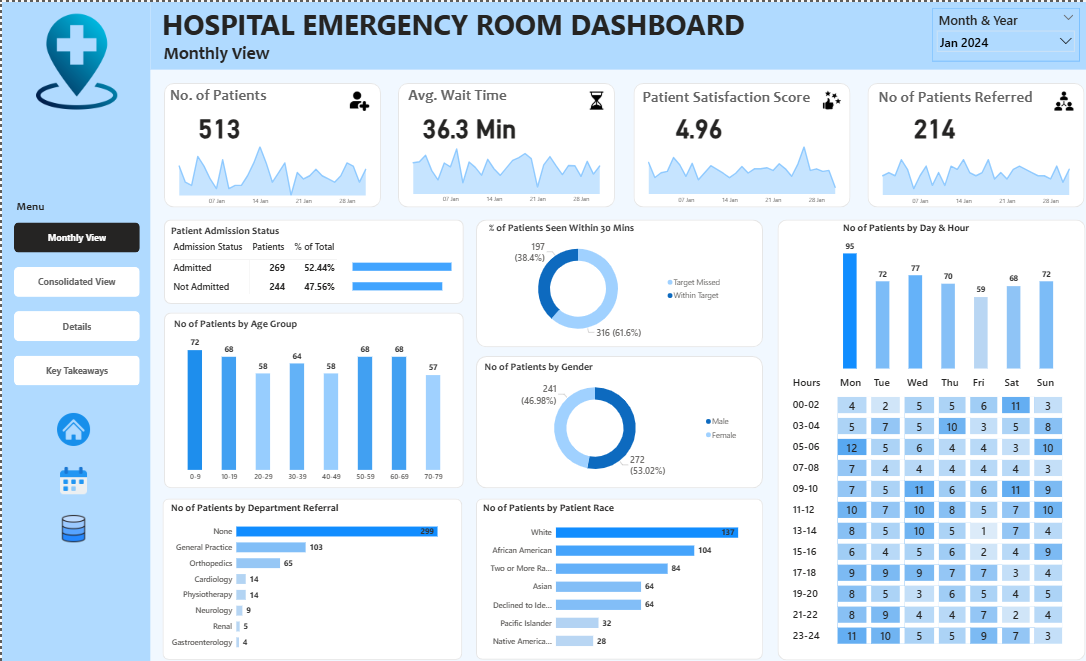

The dashboard page shown, as its layout file describes it:
{"tool":"powerbi","page":{"name":"Monthly View","canvas":[2300,1400],"ordinal":0},"visuals":[{"type":"shape","box":[338.5,171.3,455.5,261.2],"z":0},{"type":"shape","box":[1324.7,171.3,455.5,261.2],"z":1000},{"type":"shape","box":[0,0,311.3,1399.9],"z":2000},{"type":"shape","box":[831.6,171.3,455.5,261.2],"z":3000},{"type":"card","fields":{"Values":["Hospital ER_Hospital ER.No of Patients"]},"box":[374,225.7,160.9,66.9],"z":4000},{"type":"card","fields":{"Values":["Hospital ER_Hospital ER.Avg Wait Time"]},"box":[869.2,225.7,223.6,66.9],"z":5000},{"type":"card","fields":{"Values":["Avg(Hospital ER_Hospital ER.Patient Satisfaction Score)"]},"box":[1381.4,225.6,160.9,66.9],"z":6000},{"type":"shape","box":[1817.8,171.3,455.5,261.2],"z":7000},{"type":"card","fields":{"Values":["Hospital ER_Hospital ER.Measure"]},"box":[1876.7,227.6,160.9,66.9],"z":8000},{"type":"shape","box":[311.3,0,1989.1,142.1],"z":9000},{"type":"slicer","fields":{"Values":["Calendar Table.Month & Year"]},"box":[1950.8,12.2,309.8,112.1],"z":10000},{"type":"textbox","box":[339.2,171.3,227.8,56.5],"z":11000},{"type":"textbox","box":[841.3,171.3,231.1,56.5],"z":12000},{"type":"textbox","box":[1331.2,172,377.5,55.8],"z":13000},{"type":"textbox","box":[1828.2,173.4,344.8,56.4],"z":14000},{"type":"areaChart","fields":{"Category":["Calendar Table.Date.Variation.Date Hierarchy.Year","Calendar Table.Date.Variation.Date Hierarchy.Quarter","Calendar Table.Date.Variation.Date Hierarchy.Month","Calendar Table.Date.Variation.Date Hierarchy.Day"],"Y":["Hospital ER_Hospital ER.No of Patients"]},"box":[348.4,288.1,435.5,145.2],"z":15000},{"type":"areaChart","fields":{"Category":["Calendar Table.Date.Variation.Date Hierarchy.Year","Calendar Table.Date.Variation.Date Hierarchy.Quarter","Calendar Table.Date.Variation.Date Hierarchy.Month","Calendar Table.Date.Variation.Date Hierarchy.Day"],"Y":["Avg(Hospital ER_Hospital ER.Patient Waittime)"]},"box":[842.1,285.9,435.5,145.2],"z":16000},{"type":"areaChart","fields":{"Category":["Calendar Table.Date.Variation.Date Hierarchy.Year","Calendar Table.Date.Variation.Date Hierarchy.Quarter","Calendar Table.Date.Variation.Date Hierarchy.Month","Calendar Table.Date.Variation.Date Hierarchy.Day"],"Y":["Avg(Hospital ER_Hospital ER.Patient Satisfaction Score)"]},"box":[1333.4,290.4,435.5,142.9],"z":17000},{"type":"areaChart","fields":{"Category":["Calendar Table.Date.Variation.Date Hierarchy.Year","Calendar Table.Date.Variation.Date Hierarchy.Quarter","Calendar Table.Date.Variation.Date Hierarchy.Month","Calendar Table.Date.Variation.Date Hierarchy.Day"],"Y":["Hospital ER_Hospital ER.Measure"]},"box":[1827.1,288.1,435.5,145.2],"z":18000},{"type":"textbox","box":[331.7,0,1281,88.9],"z":19000},{"type":"image","box":[46.9,17.9,218.9,212.2],"z":20000},{"type":"image","box":[1222.3,183.9,52.2,48.1],"z":21000},{"type":"image","box":[724.8,183.1,52.8,51.2],"z":22000},{"type":"image","box":[2198,181.8,62.7,50],"z":23000},{"type":"image","box":[1713.3,179.7,58.5,52.2],"z":24000},{"type":"shape","box":[338.9,455,629.1,177.3],"z":25000},{"type":"shape","box":[994.7,455,602.5,268.3],"z":26000},{"type":"shape","box":[1626.9,455,646.4,925.6],"z":27000},{"type":"shape","box":[996.2,743.7,602.5,277.7],"z":28000},{"type":"donutChart","title":"% of Patients Seen Within 30 Mins","fields":{"Y":["Hospital ER_Hospital ER.No of Patients"],"Category":["Hospital ER_Hospital ER.Waittime Status"]},"box":[1016.6,461,504.4,257.6],"z":29000},{"type":"donutChart","title":"No of Patients by Gender","fields":{"Y":["Hospital ER_Hospital ER.No of Patients"],"Category":["Hospital ER_Hospital ER.Full Gender"]},"box":[1007.2,753.1,547.5,257.3],"z":30000},{"type":"shape","box":[338.9,652.7,629.1,368.7],"z":31000},{"type":"pivotTable","title":"Patient Admission Status","fields":{"Rows":["Hospital ER_Hospital ER.Admission Status"],"Values":["Hospital ER_Hospital ER.No of Patients1","Hospital ER_Hospital ER.No of Patients"]},"box":[347.9,465.5,610,158.3],"z":32000},{"type":"barChart","fields":{"Category":["Hospital ER_Hospital ER.Admission Status"],"Y":["Hospital ER_Hospital ER.No of Patients"]},"box":[729.5,514.6,241.6,120.8],"z":33000},{"type":"clusteredColumnChart","fields":{"Category":["Hospital ER_Hospital ER.Age Group"],"Y":["Hospital ER_Hospital ER.No of Patients"]},"box":[354.6,662.7,599.3,354.6],"z":34000},{"type":"shape","box":[337.3,1041.7,629.1,338.9],"z":35000},{"type":"clusteredBarChart","fields":{"Category":["Hospital ER_Hospital ER.Department Referral"],"Y":["Hospital ER_Hospital ER.No of Patients"]},"box":[348.3,1049.6,602.5,324.8],"z":36000},{"type":"shape","box":[996.5,1043,602.2,338.4],"z":37000},{"type":"clusteredBarChart","fields":{"Y":["Hospital ER_Hospital ER.No of Patients"],"Category":["Hospital ER_Hospital ER.Patient Race"]},"box":[1005.8,1049.2,578.9,324.4],"z":38000},{"type":"pivotTable","fields":{"Columns":["Calendar Table.Day Name"],"Rows":["Hospital ER_Hospital ER.Waittime Interval"],"Values":["Hospital ER_Hospital ER.No of Patients"]},"box":[1649.4,776.5,606.9,583.6],"z":39000},{"type":"clusteredColumnChart","title":"No of Patients by Day & Hour","fields":{"Category":["Calendar Table.Day Name"],"Y":["Hospital ER_Hospital ER.No of Patients"]},"box":[1758.7,461.3,453.4,315.3],"z":40000},{"type":"textbox","box":[333.7,79.2,411.3,59],"z":41000},{"type":"pageNavigator","box":[24.2,462.3,264.1,343.1],"z":42000},{"type":"textbox","box":[24.2,409.1,99.9,48.3],"z":43000},{"type":"image","box":[110.1,854.1,79.5,87.7],"z":47000},{"type":"image","box":[116.2,966.2,67.3,75.4],"z":48000},{"type":"image","box":[116.2,1068.1,67.3,75.4],"z":49000}]}

Visuals, with their boxes in screenshot pixels (x1, y1, x2, y2), scaled from the page's 2300x1400 canvas onto the 1086x661 screenshot:
shape: bbox=[160, 81, 375, 204]
shape: bbox=[625, 81, 841, 204]
shape: bbox=[0, 0, 147, 660]
shape: bbox=[393, 81, 608, 204]
card - Hospital ER_Hospital ER.No of Patients: bbox=[177, 107, 253, 138]
card - Hospital ER_Hospital ER.Avg Wait Time: bbox=[410, 107, 516, 138]
card - Avg(Hospital ER_Hospital ER.Patient Satisfaction Score): bbox=[652, 107, 728, 138]
shape: bbox=[858, 81, 1073, 204]
card - Hospital ER_Hospital ER.Measure: bbox=[886, 107, 962, 139]
shape: bbox=[147, 0, 1085, 67]
slicer - Calendar Table.Month & Year: bbox=[921, 6, 1067, 59]
textbox: bbox=[160, 81, 268, 108]
textbox: bbox=[397, 81, 506, 108]
textbox: bbox=[629, 81, 807, 108]
textbox: bbox=[863, 82, 1026, 108]
areaChart - Calendar Table.Date.Variation.Date Hierarchy.Year x Calendar Table.Date.Variation.Date Hierarchy.Quarter: bbox=[165, 136, 370, 205]
areaChart - Calendar Table.Date.Variation.Date Hierarchy.Year x Calendar Table.Date.Variation.Date Hierarchy.Quarter: bbox=[398, 135, 603, 204]
areaChart - Calendar Table.Date.Variation.Date Hierarchy.Year x Calendar Table.Date.Variation.Date Hierarchy.Quarter: bbox=[630, 137, 835, 205]
areaChart - Calendar Table.Date.Variation.Date Hierarchy.Year x Calendar Table.Date.Variation.Date Hierarchy.Quarter: bbox=[863, 136, 1068, 205]
textbox: bbox=[157, 0, 761, 42]
image: bbox=[22, 8, 126, 109]
image: bbox=[577, 87, 602, 110]
image: bbox=[342, 86, 367, 111]
image: bbox=[1038, 86, 1067, 109]
image: bbox=[809, 85, 837, 109]
shape: bbox=[160, 215, 457, 299]
shape: bbox=[470, 215, 754, 342]
shape: bbox=[768, 215, 1073, 652]
shape: bbox=[470, 351, 755, 482]
"% of Patients Seen Within 30 Mins" donutChart: bbox=[480, 218, 718, 339]
"No of Patients by Gender" donutChart: bbox=[476, 356, 734, 477]
shape: bbox=[160, 308, 457, 482]
"Patient Admission Status" pivotTable: bbox=[164, 220, 452, 295]
barChart - Hospital ER_Hospital ER.Admission Status x Hospital ER_Hospital ER.No of Patients: bbox=[344, 243, 459, 300]
clusteredColumnChart - Hospital ER_Hospital ER.Age Group x Hospital ER_Hospital ER.No of Patients: bbox=[167, 313, 450, 480]
shape: bbox=[159, 492, 456, 652]
clusteredBarChart - Hospital ER_Hospital ER.Department Referral x Hospital ER_Hospital ER.No of Patients: bbox=[164, 496, 449, 649]
shape: bbox=[471, 492, 755, 652]
clusteredBarChart - Hospital ER_Hospital ER.No of Patients x Hospital ER_Hospital ER.Patient Race: bbox=[475, 495, 748, 649]
pivotTable - Calendar Table.Day Name x Hospital ER_Hospital ER.Waittime Interval: bbox=[779, 367, 1065, 642]
"No of Patients by Day & Hour" clusteredColumnChart: bbox=[830, 218, 1044, 367]
textbox: bbox=[158, 37, 352, 65]
pageNavigator: bbox=[11, 218, 136, 380]
textbox: bbox=[11, 193, 59, 216]
image: bbox=[52, 403, 90, 445]
image: bbox=[55, 456, 87, 492]
image: bbox=[55, 504, 87, 540]
